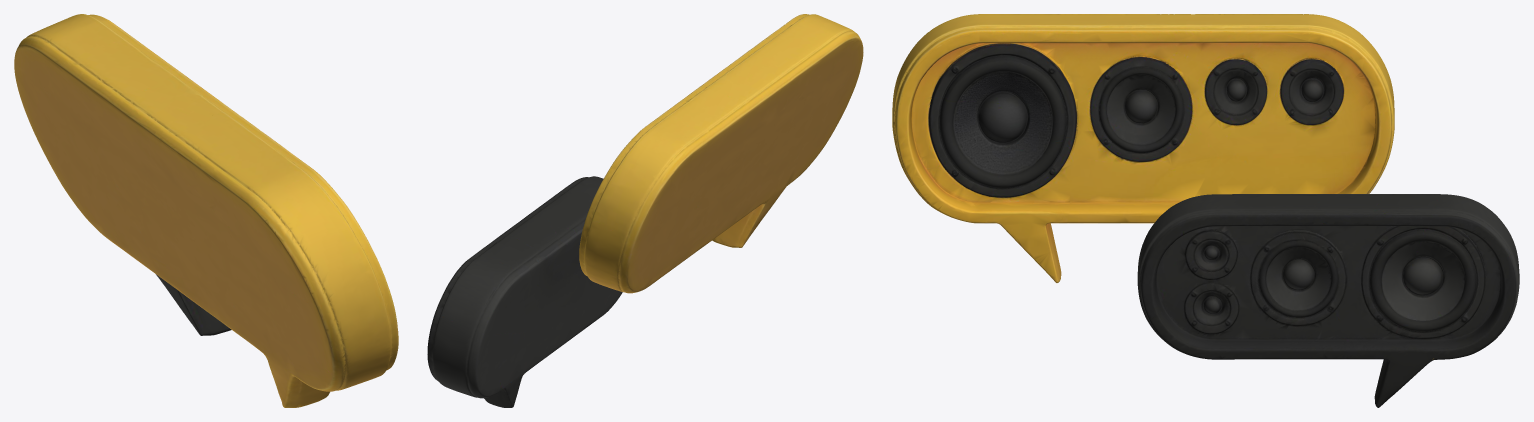
The model's file is csag-speaker-quantized.glb.
3 renders of one model, left to right at view 1: azimuth 30°, elevation 25°; view 2: azimuth 150°, elevation 25°; view 3: azimuth 270°, elevation 25°, orthographic. The views are drawn at different scales.
Visible parts, largest first — view 1: tripo_node_e4e60da5-60dd-4dec-951b-e4d5cb58289a; view 2: tripo_node_e4e60da5-60dd-4dec-951b-e4d5cb58289a; view 3: tripo_node_e4e60da5-60dd-4dec-951b-e4d5cb58289a.
Part boxes in pixels (x1,y1,x2,y2): tripo_node_e4e60da5-60dd-4dec-951b-e4d5cb58289a: (14,14,398,407); tripo_node_e4e60da5-60dd-4dec-951b-e4d5cb58289a: (427,14,863,407); tripo_node_e4e60da5-60dd-4dec-951b-e4d5cb58289a: (892,14,1519,407).
Size of the model in its own units: 0.1967 by 0.3 by 0.5448.
Materials: 1 (1 with a texture image).
